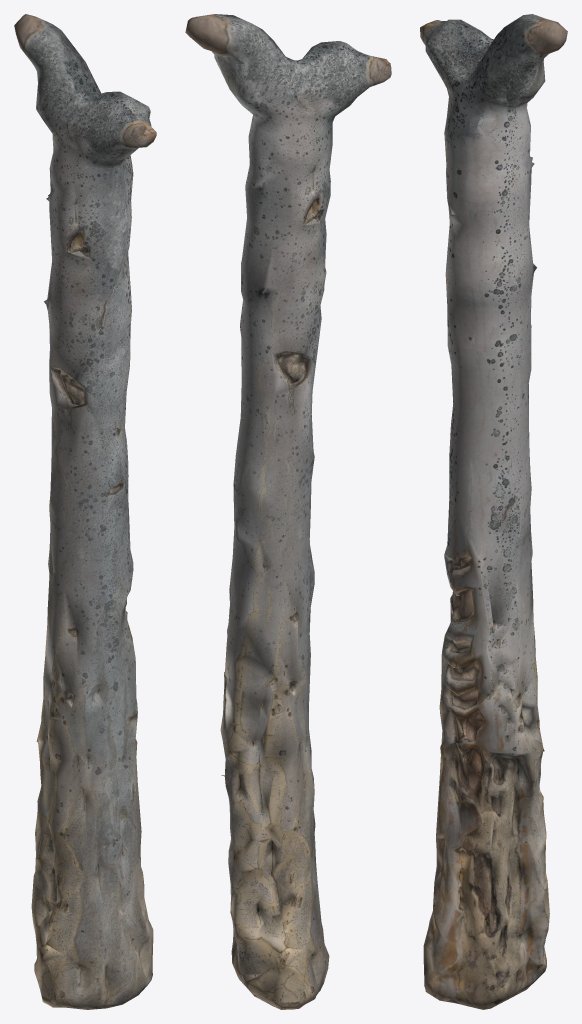
Rendered from dead_trunk.glb.
3 views of the same model, side by side, from view 1: azimuth 90°, elevation 25°; view 2: azimuth 150°, elevation 25°; view 3: azimuth 270°, elevation 25° (orthographic). The views are drawn at different scales.
Visible parts, largest first — view 1: dead_quiver_trunk_LOD0; view 2: dead_quiver_trunk_LOD0; view 3: dead_quiver_trunk_LOD0.
Part boxes in pixels (box(x1,y1,x2,y2)): dead_quiver_trunk_LOD0: box(14, 14, 156, 1009); dead_quiver_trunk_LOD0: box(185, 14, 391, 1009); dead_quiver_trunk_LOD0: box(420, 14, 567, 1009).
Bounding box in the file's own units: 0.3053 × 1.99 × 0.2681.
1 material, 1 textured.
